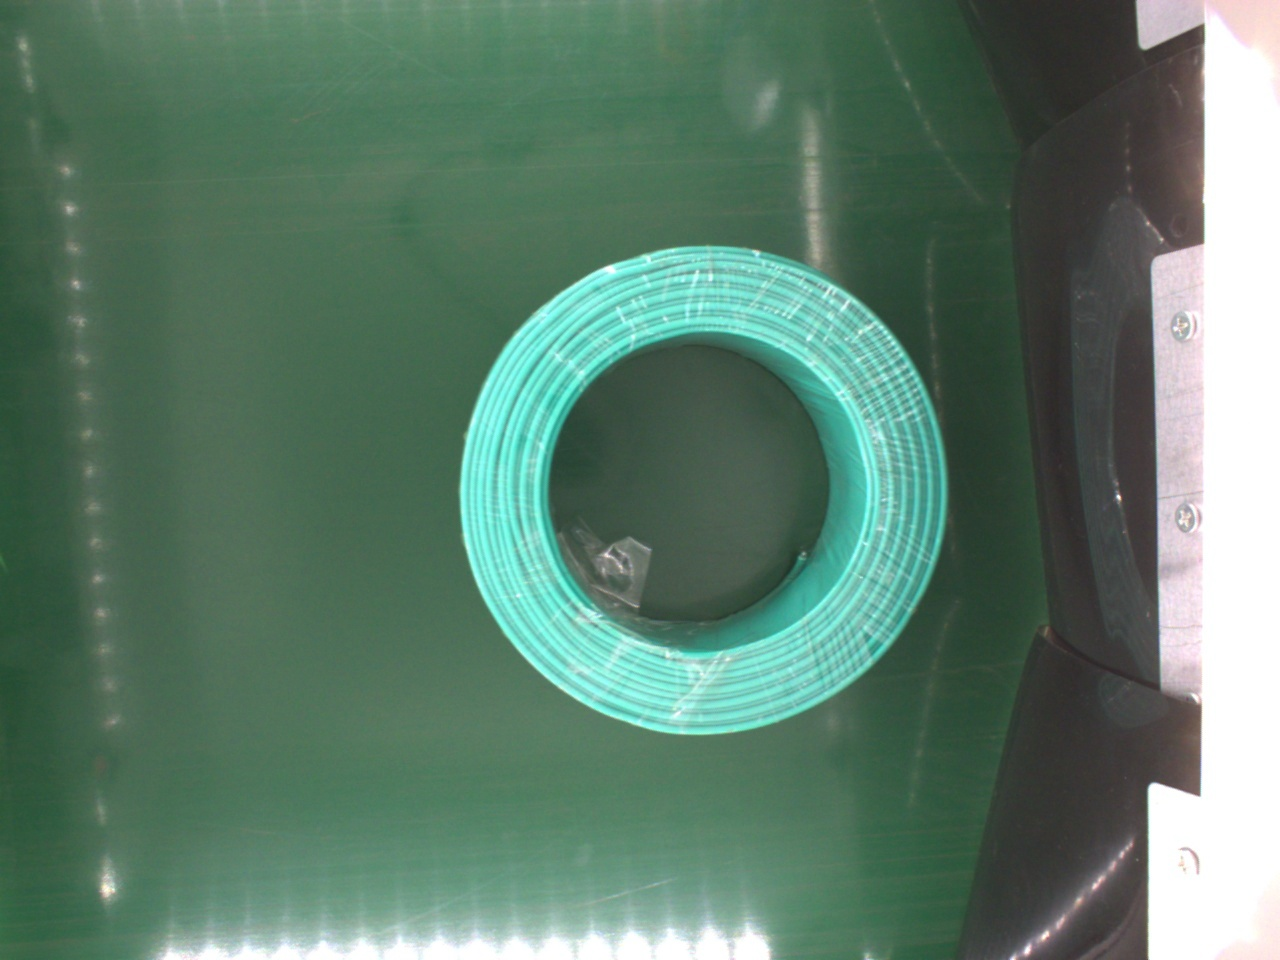green: (455, 243, 945, 739)
